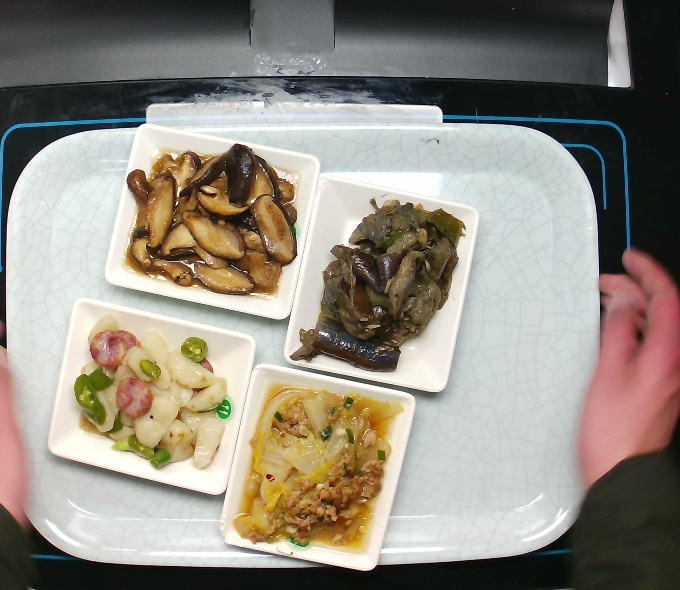wcq-MaTiGuo: (66, 307, 235, 484)
wcq-MoGu: (112, 138, 306, 305)
wcq-QieZi: (285, 182, 469, 380)
wcq-RouMoBaiCai: (227, 375, 412, 555)
